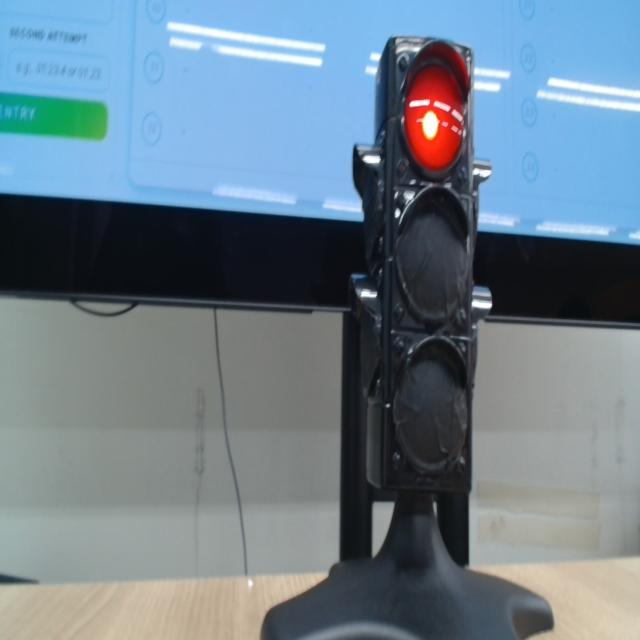red_light: (404, 65, 464, 173)
